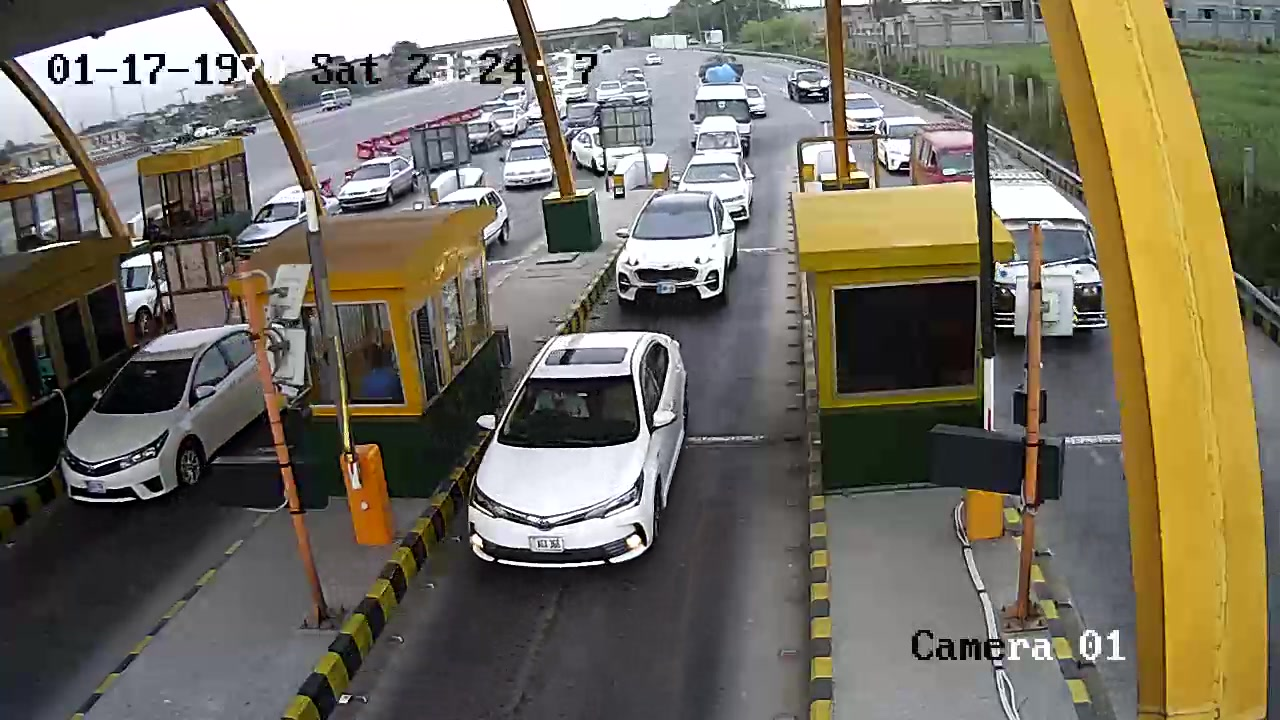F1: (457, 325, 715, 584)
